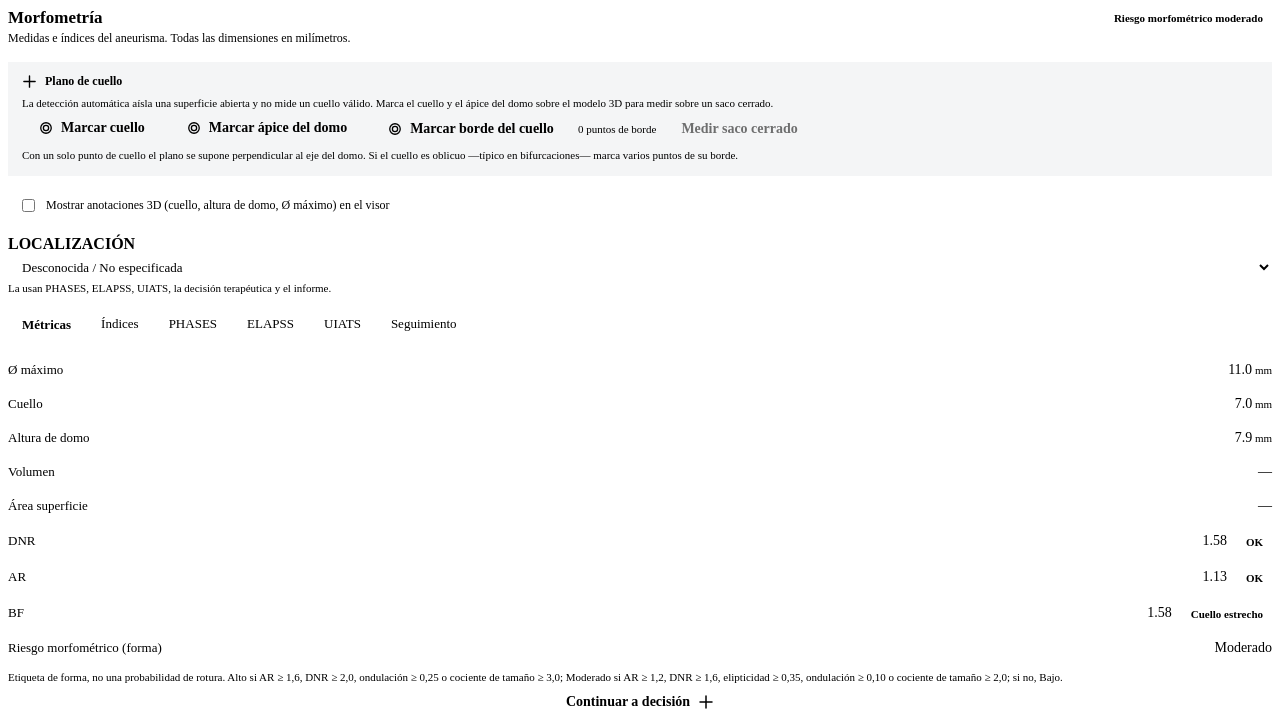
la localización, una sola vez › elegirla la guarda con la sesión y PHASES la hereda
Expected: the text "7.0" is shown, [1235,396,1252,411]
Select "Tronco basilar" in the dropdown labelled "Localización" at (640, 267), box [8,258,1272,276]
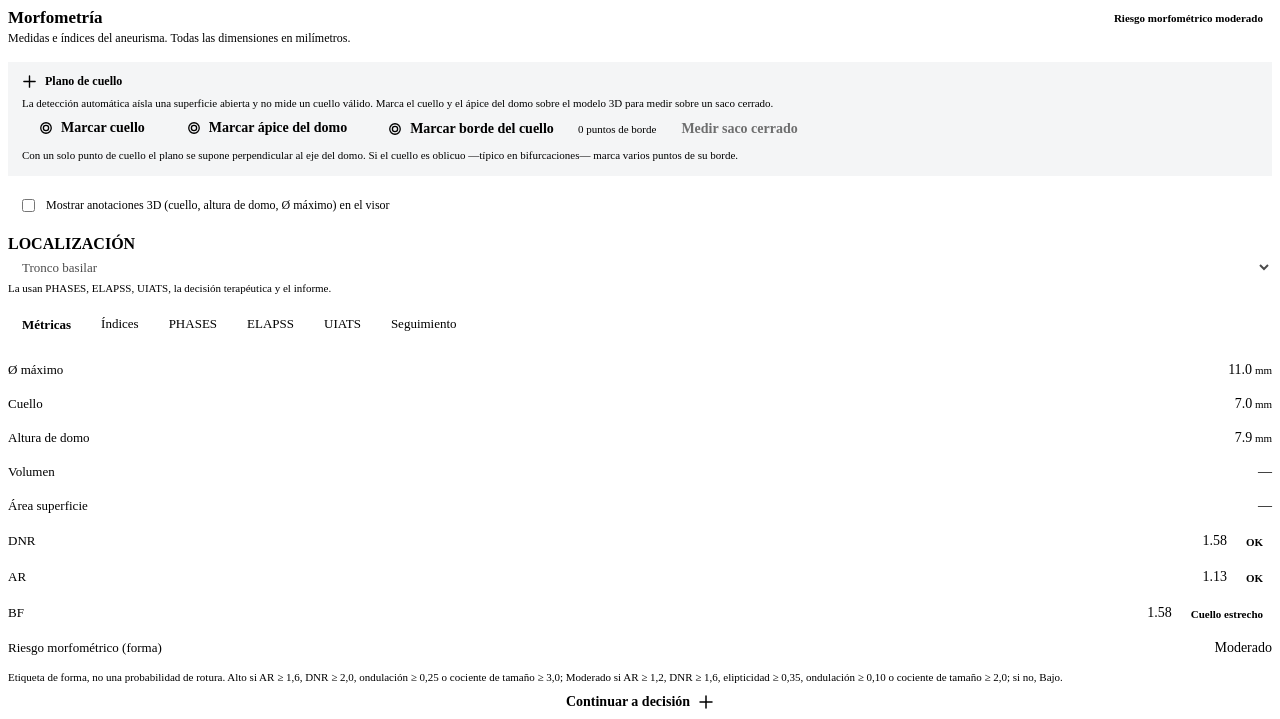
Click the button "PHASES" at (193, 325), box [155,308,231,342]
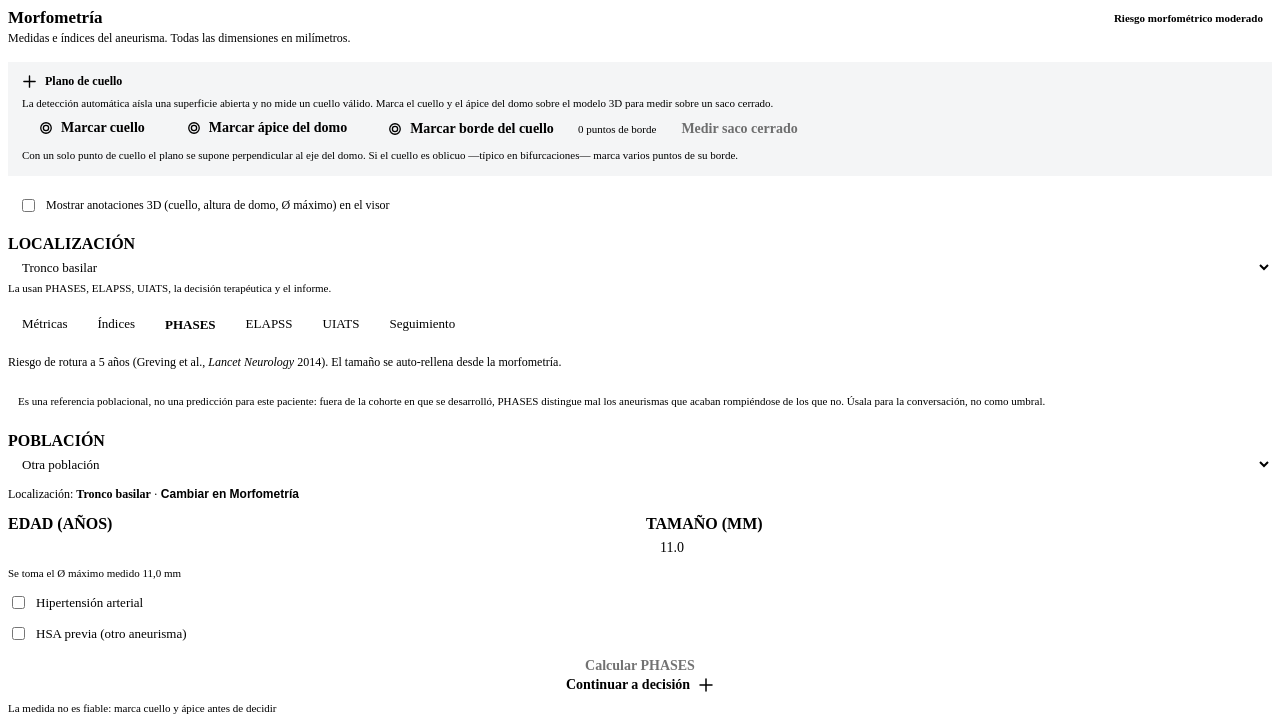
Expected: the text "referencia poblacional" is shown, [18,395,1045,407]
Expected: the text "Tronco basilar" is shown, [76,486,151,500]
